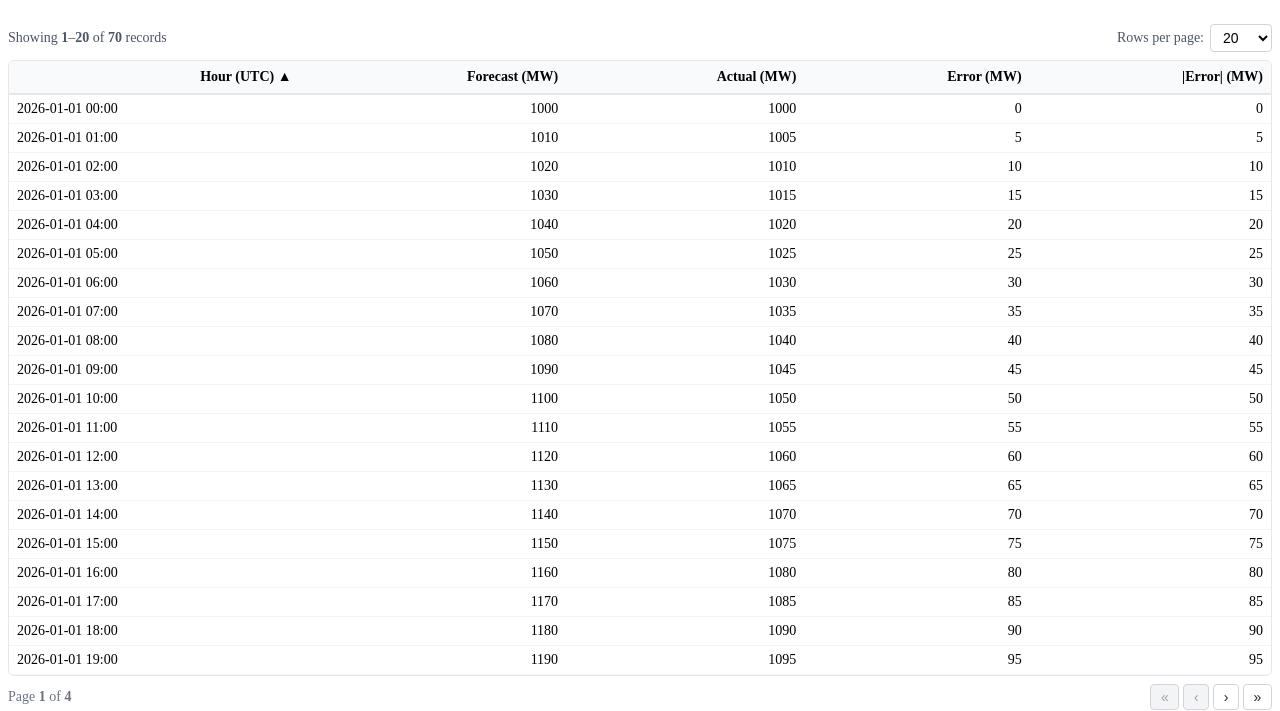
Scenario: IntervalTable with Pagination › changes page size to 50 and 100
This screenshot has width=1280, height=711.
# Switch to 50
Select "50" in the dropdown labelled "Rows per page:". click: (1241, 38)
box: [1210,24,1272,52]
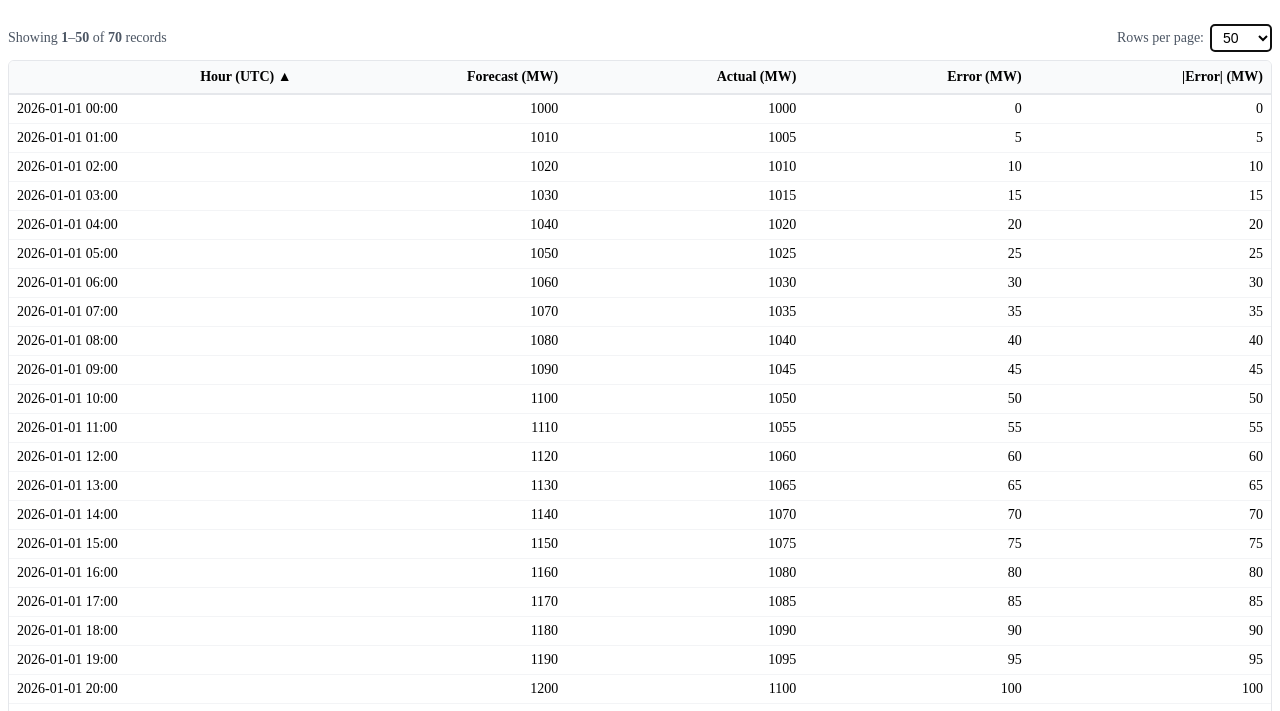
Check: the text "Showing 1–50 of 70 records" is shown, box [8,30,167,46]
# Switch to 100
Select "100" in the dropdown labelled "Rows per page:". click: (1241, 38)
box: [1210,24,1272,52]
(page scrolled)
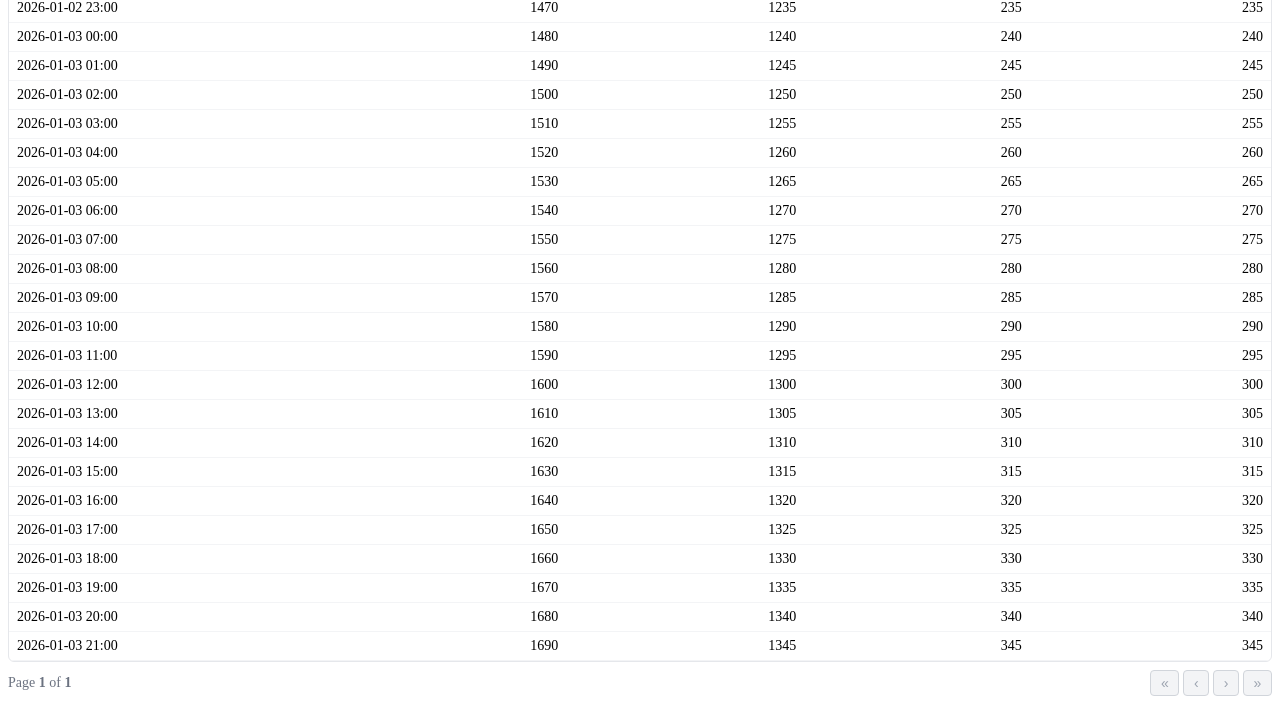
Check: the button named "previous page" is disabled, box [1183,670,1209,696]
Check: the element with test id "page-indicator" reads "Page 1 of 1", box [8,675,71,691]
Check: the button named "next page" is disabled, box [1213,670,1239,696]
